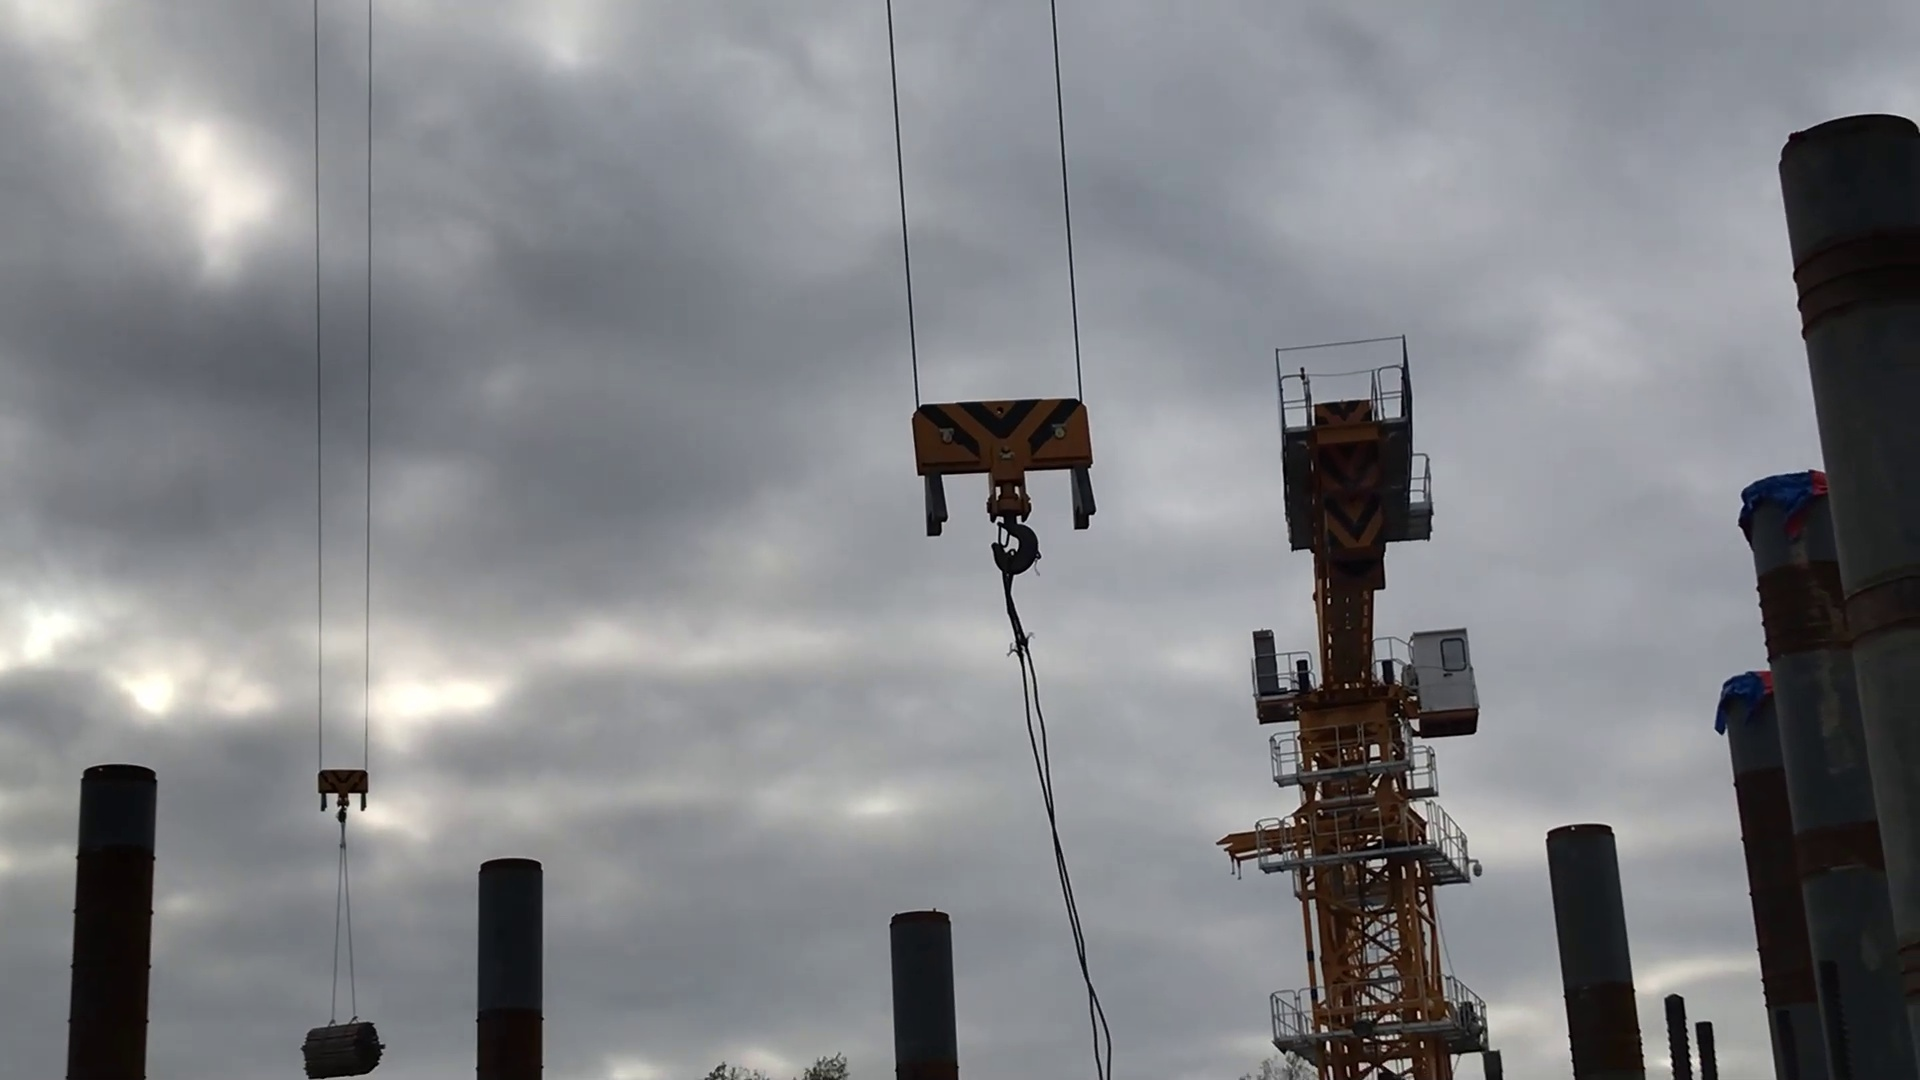hook: (895, 392, 1110, 578), (298, 762, 378, 833)
